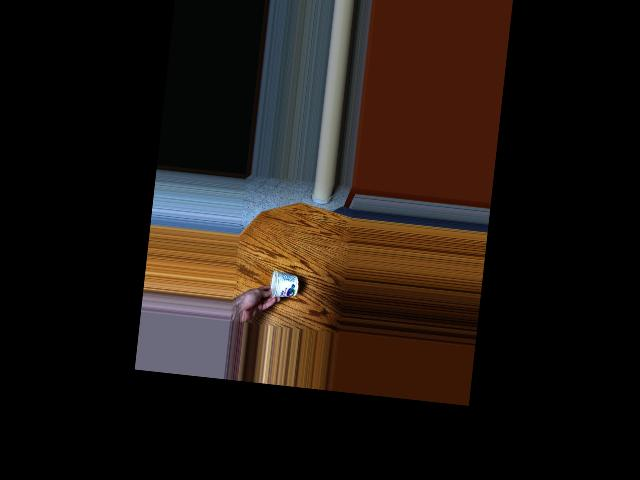cotage: (268, 267, 298, 301)
